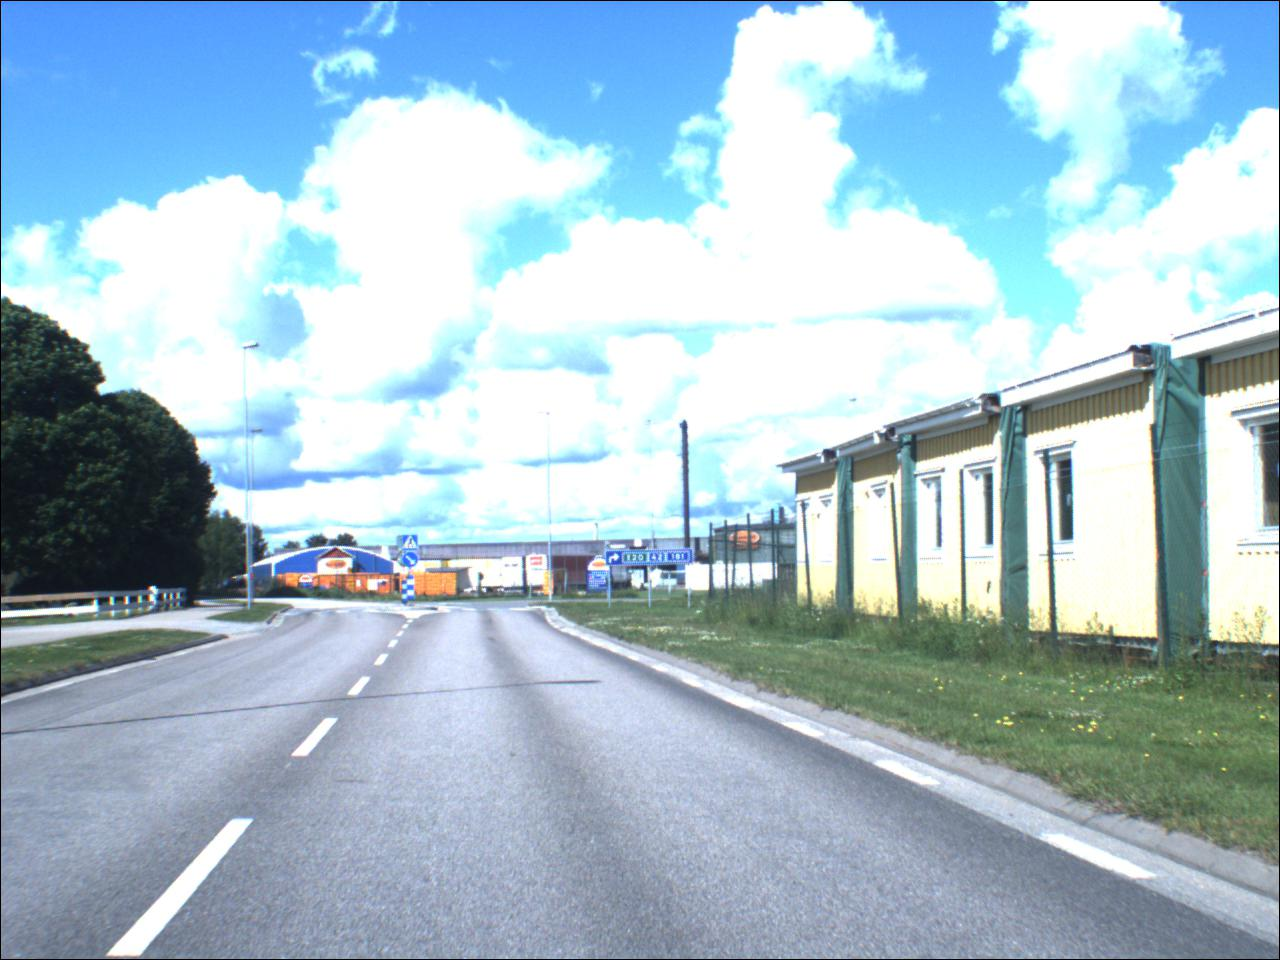PASS_RIGHT_SIDE: (405, 553, 422, 572)
PEDESTRIAN_CROSSING: (405, 537, 421, 553)
